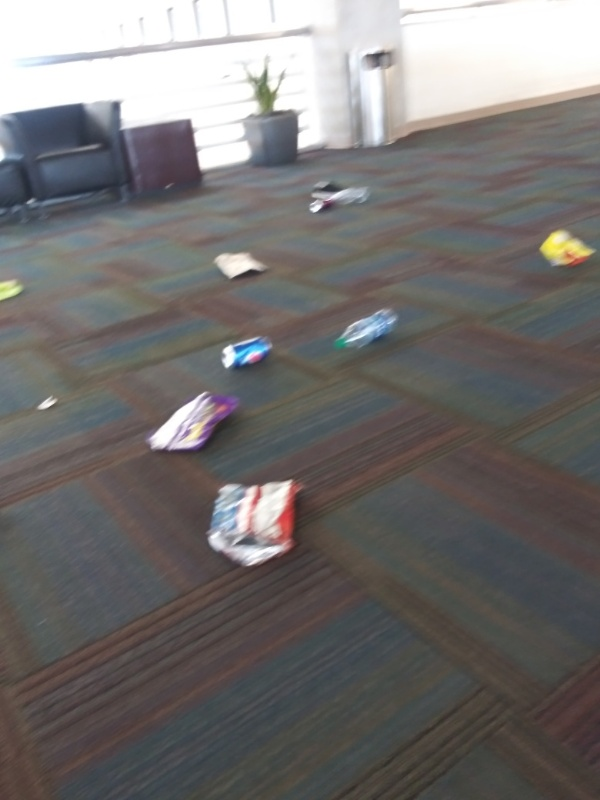bag: (200, 479, 316, 571), (140, 389, 246, 457), (535, 226, 600, 272), (209, 251, 272, 285), (1, 276, 26, 309)
bottle: (329, 301, 403, 356), (324, 182, 377, 208)
can: (216, 329, 278, 373), (305, 199, 333, 216)
